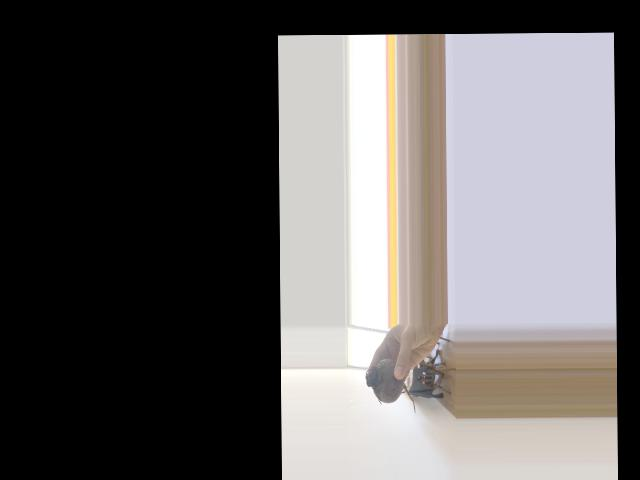beet: (365, 358, 415, 415)
